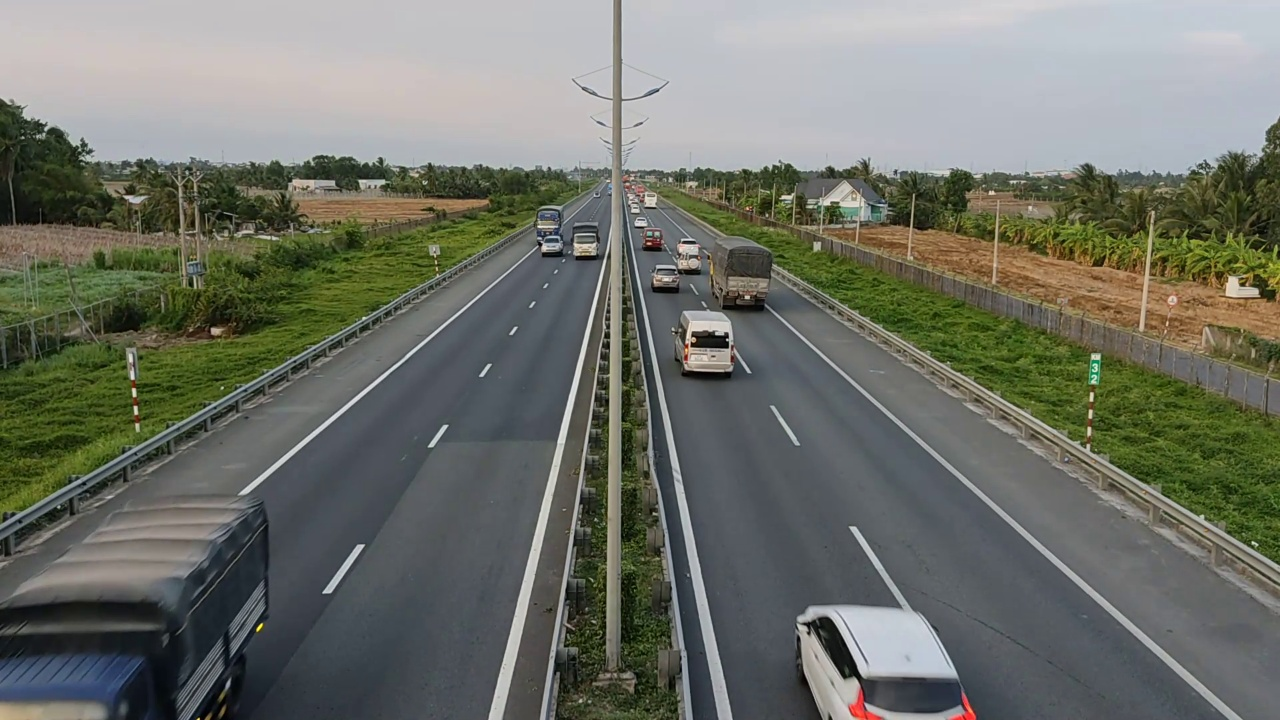bus: (709, 235, 773, 309)
car: (794, 602, 977, 719), (670, 306, 738, 382), (650, 263, 681, 292), (642, 227, 665, 251)
truck: (709, 235, 773, 309)
